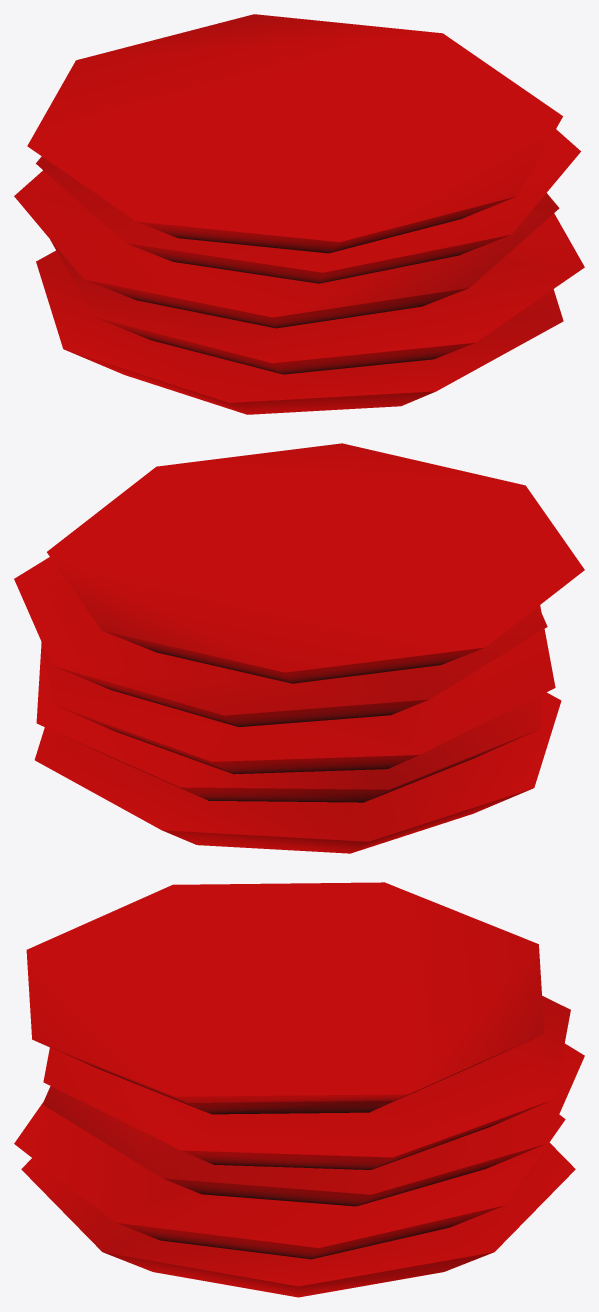
The model's file is CI_Kitchen_Plate_Stack.glb.
3 renders of one model, top to bottom at view 1: azimuth 30°, elevation 25°; view 2: azimuth 150°, elevation 25°; view 3: azimuth 270°, elevation 25°, orthographic.
Parts seen in each view (by area): view 1: CI_Kitchen_Plate_Stack; view 2: CI_Kitchen_Plate_Stack; view 3: CI_Kitchen_Plate_Stack.
Boxes of the visible parts, <box> form: CI_Kitchen_Plate_Stack: <box>14,14,584,414</box>; CI_Kitchen_Plate_Stack: <box>14,443,584,853</box>; CI_Kitchen_Plate_Stack: <box>14,882,584,1297</box>.
Size of the model in its own units: 0.2615 by 0.109 by 0.2635.
